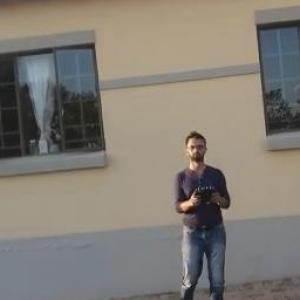follow: (166, 125, 237, 299)
